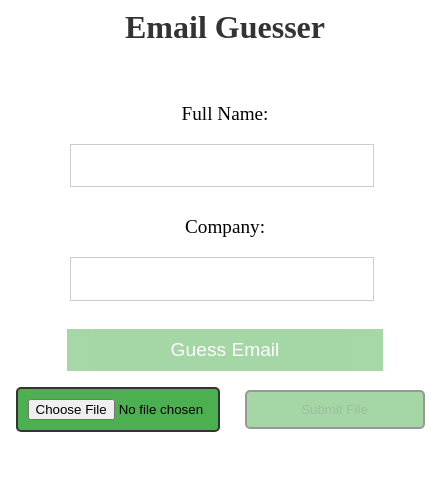
Test case: MainPageContainer › should show loading spinner when form is submitted
Step 1. Type "John Doe" into the field with test id "fullName-input" → (222,166), box 70,144 -> 374,188
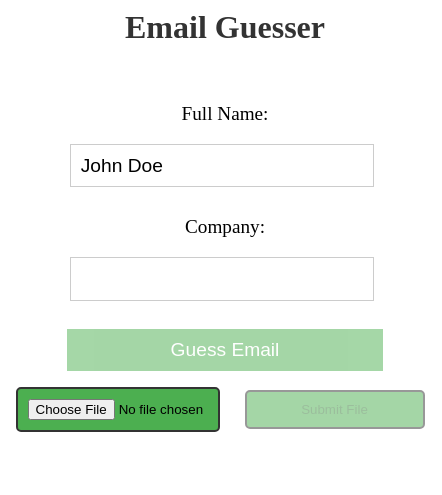
Step 2. Type "Babbel" into the field with test id "companyDomain-input" → (222,279), box 70,257 -> 374,301
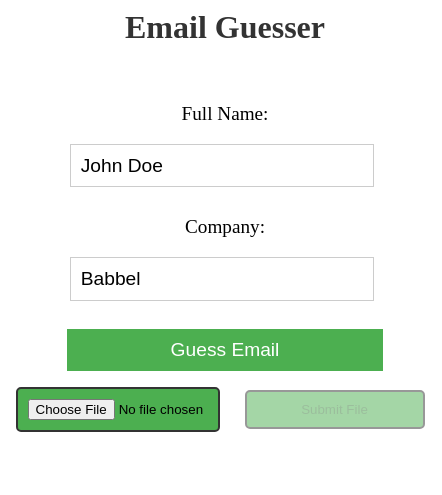
Step 3. Submit the form from the button with test id "submit-button" showing "Guess Email", box 67,329 -> 383,371
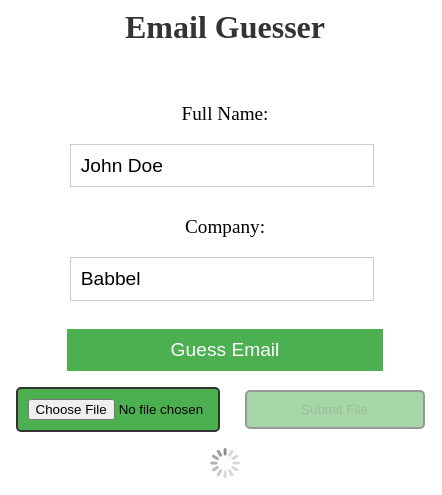
expect the element with test id "loading-spinner" is shown: met, box 210,448 -> 240,478
